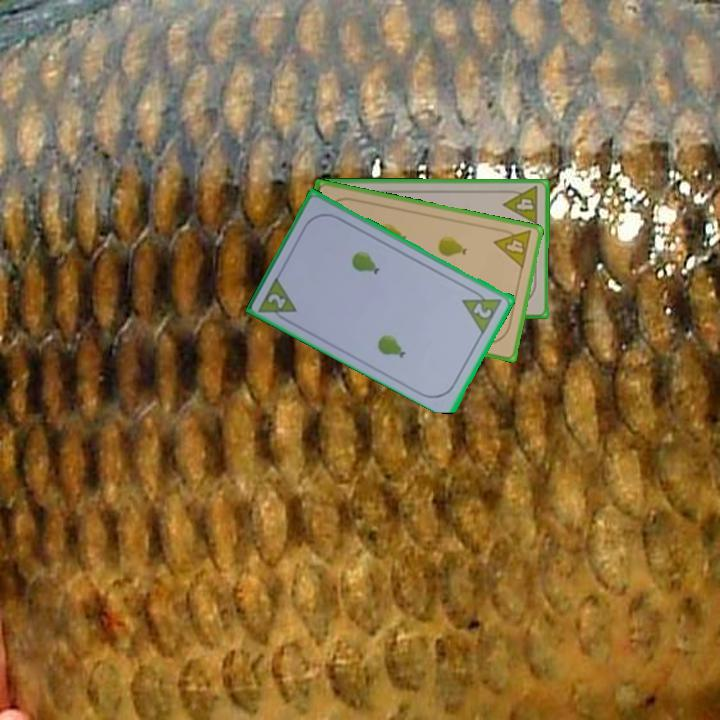2p: (255, 272, 301, 327), (470, 299, 495, 321)
4p: (491, 224, 534, 271), (500, 183, 541, 227)
